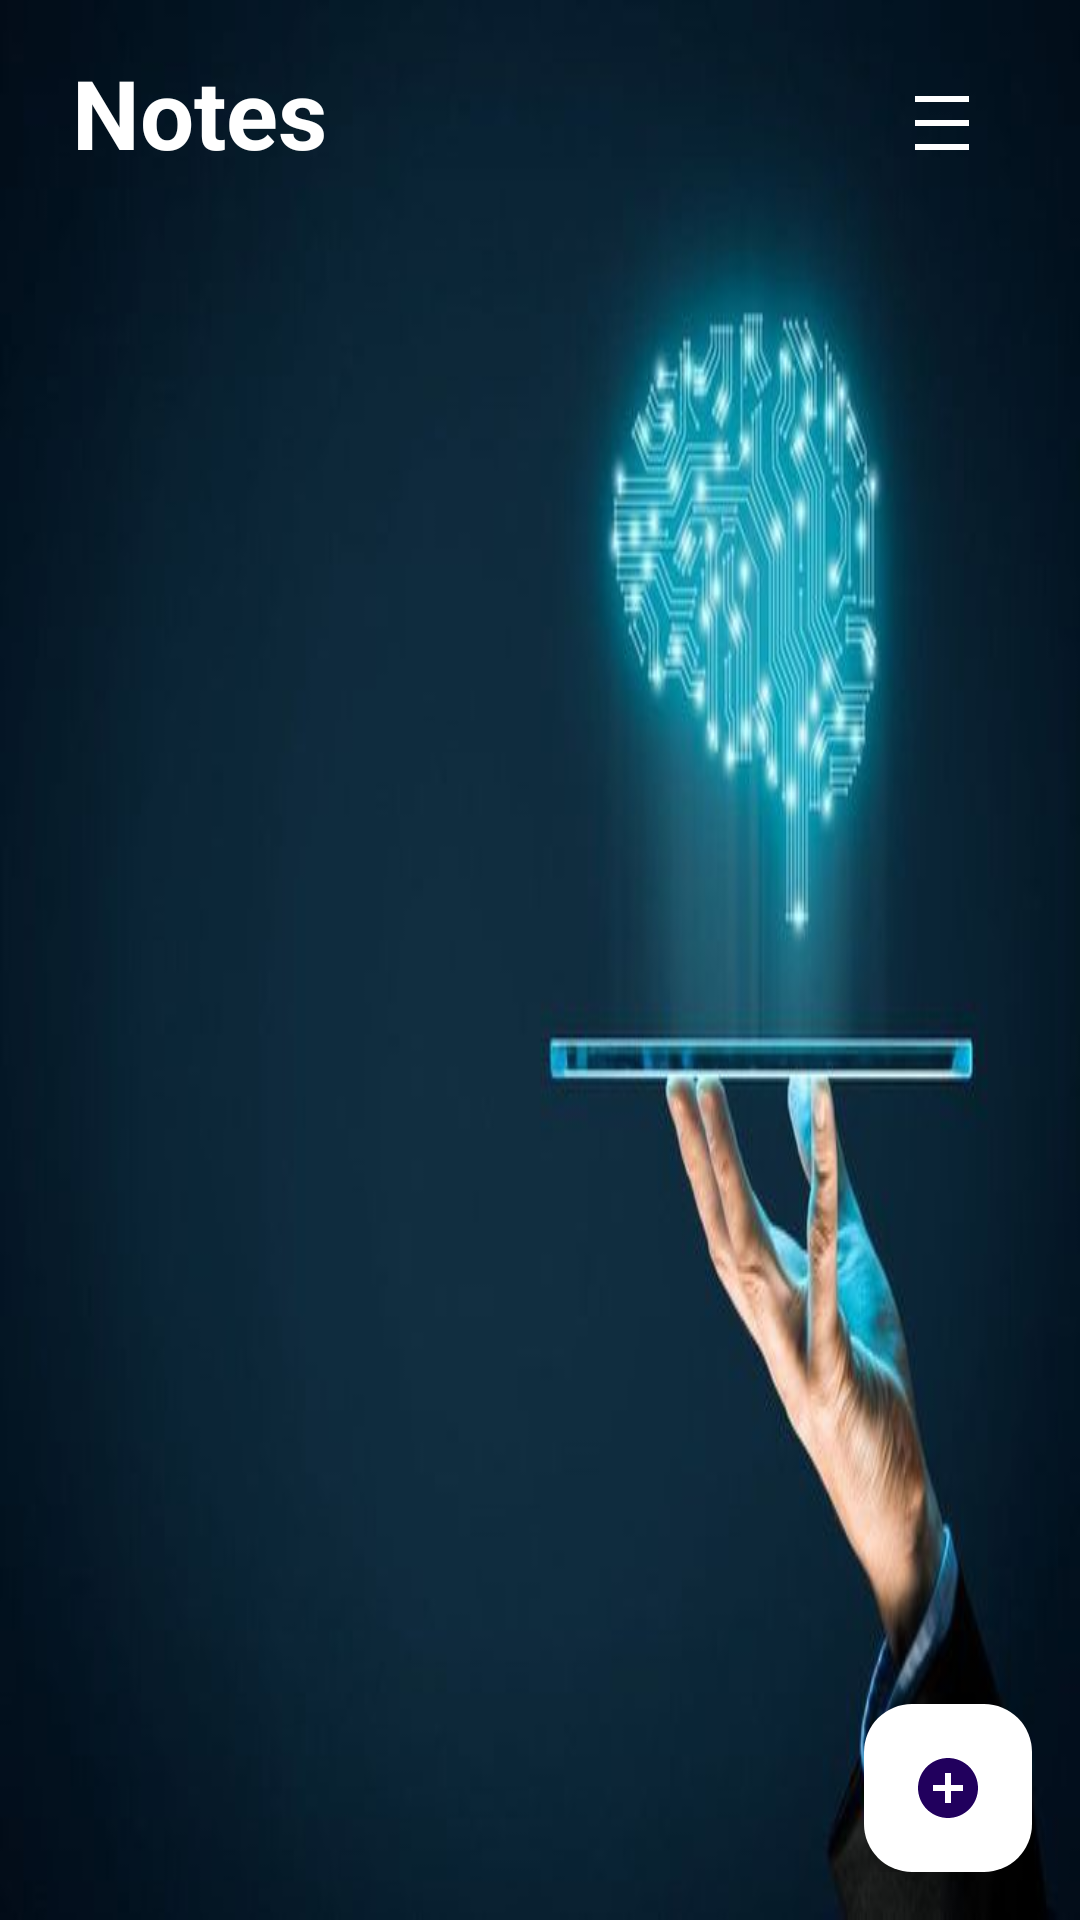

Icon click points for this 1080 x 1920 phone screenshot, format (x,y):
add: (948,1788)
menu: (942,123)
